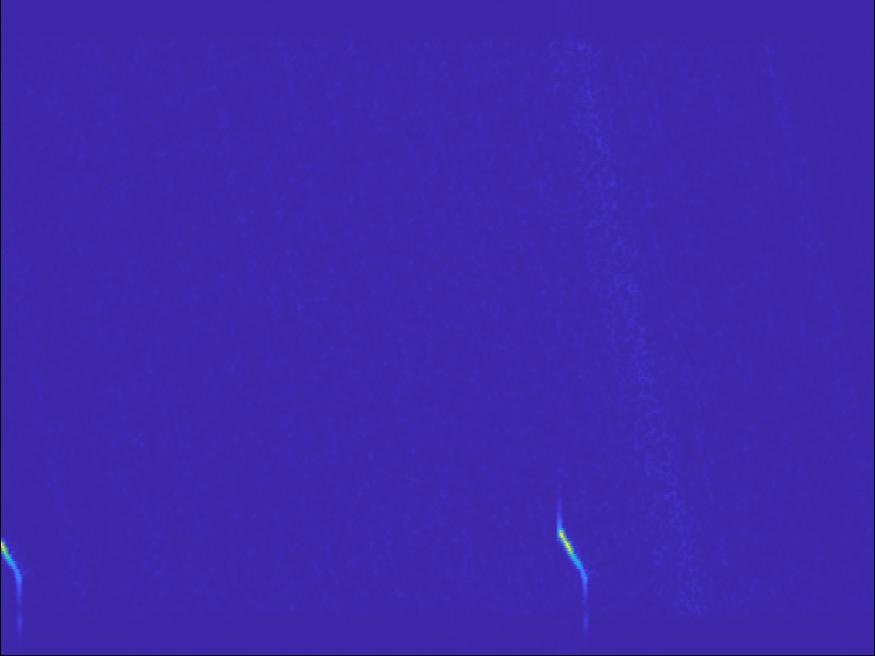Interference: (524, 120, 725, 282), (591, 296, 805, 351), (46, 12, 176, 65), (371, 229, 488, 265)
